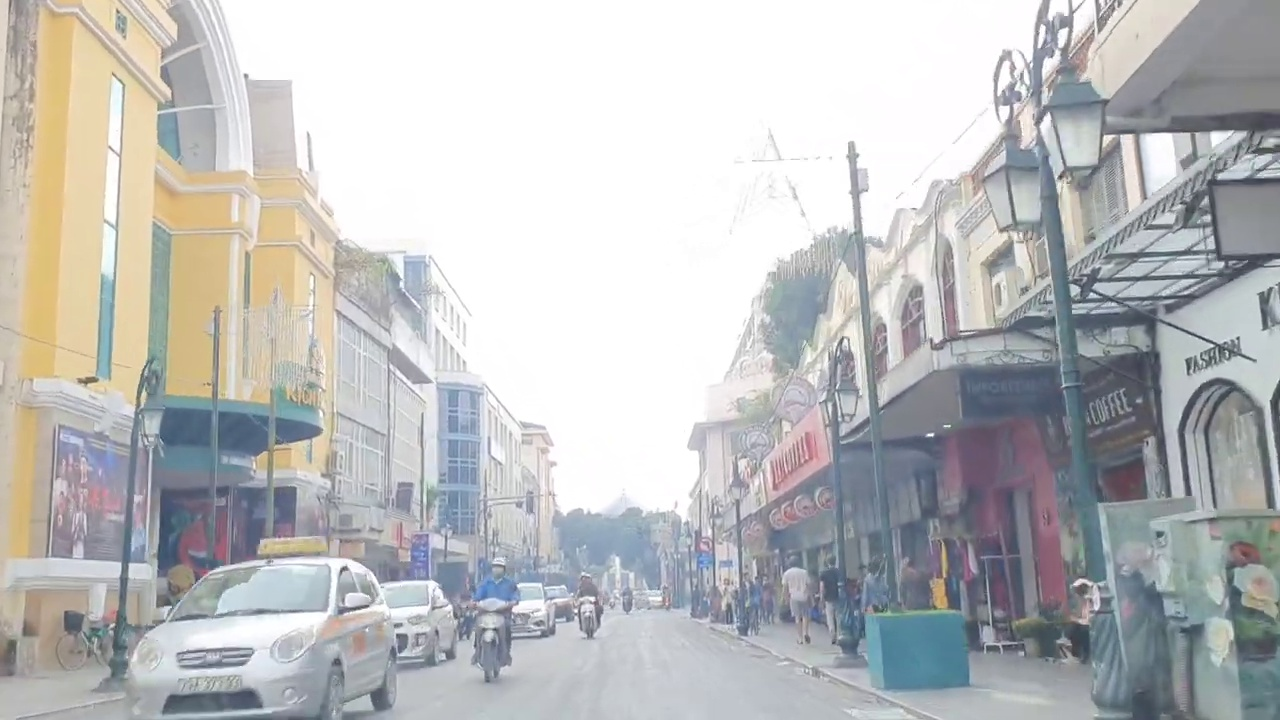vehicle-plate: (175, 676, 246, 689)
